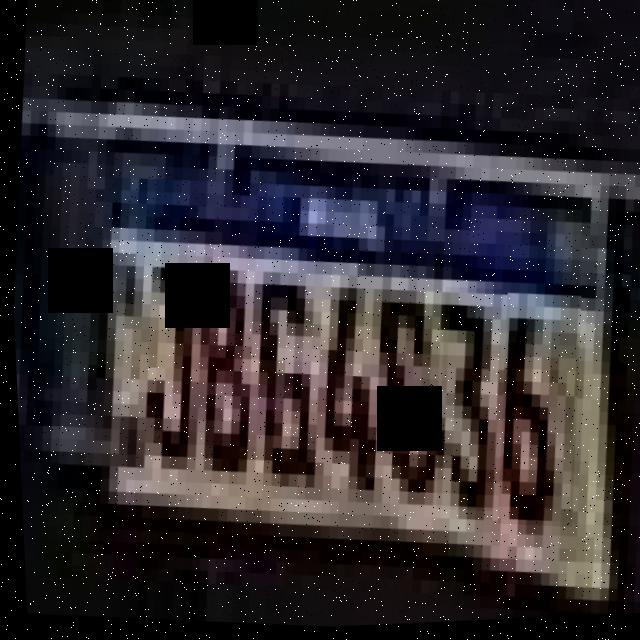4: (295, 275, 386, 508)
C: (423, 288, 507, 517)
F: (484, 295, 586, 536)
